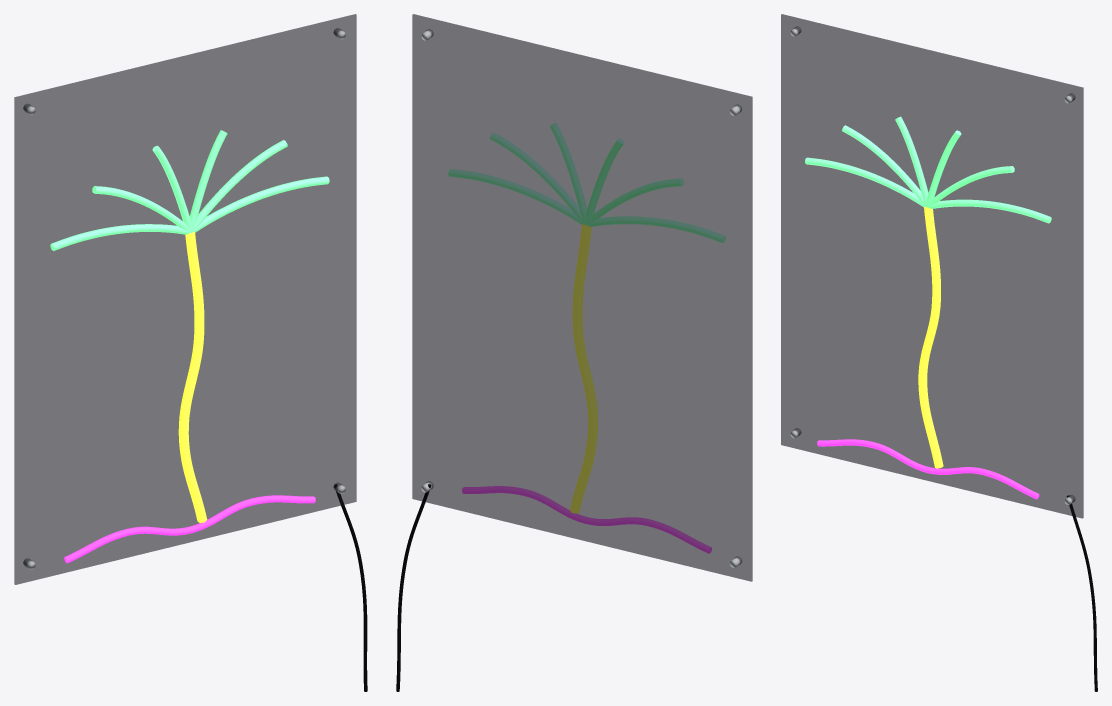
File: klub_neon_palma.glb
3 views of the same model, side by side, from view 1: azimuth 30°, elevation 25°; view 2: azimuth 150°, elevation 25°; view 3: azimuth 330°, elevation 25° (orthographic). The views are drawn at different scales.
Parts seen in each view (by area): view 1: Plyta, SwiatloZielen, SwiatloZolty, SwiatloRoz; view 2: Plyta, SwiatloZielen, SwiatloZolty, SwiatloRoz; view 3: Plyta, SwiatloZielen, SwiatloZolty, SwiatloRoz.
Part boxes in pixels (left/top/right/bottom): Plyta: left=14, top=14, right=367, bottom=691; SwiatloZielen: left=50, top=130, right=329, bottom=250; SwiatloZolty: left=178, top=232, right=207, bottom=522; SwiatloRoz: left=64, top=495, right=315, bottom=563; Plyta: left=396, top=14, right=752, bottom=691; SwiatloZielen: left=448, top=123, right=725, bottom=242; SwiatloZolty: left=570, top=224, right=597, bottom=513; SwiatloRoz: left=462, top=486, right=711, bottom=553; Plyta: left=781, top=14, right=1097, bottom=691; SwiatloZielen: left=805, top=116, right=1051, bottom=223; SwiatloZolty: left=918, top=207, right=943, bottom=468; SwiatloRoz: left=817, top=439, right=1039, bottom=499.
Bounding box in the file's own units: 1.14 × 2.1 × 0.059.
